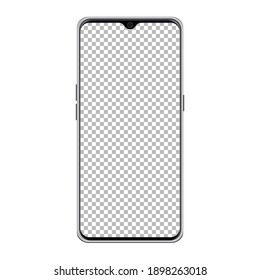phone: (71, 15, 190, 244)
